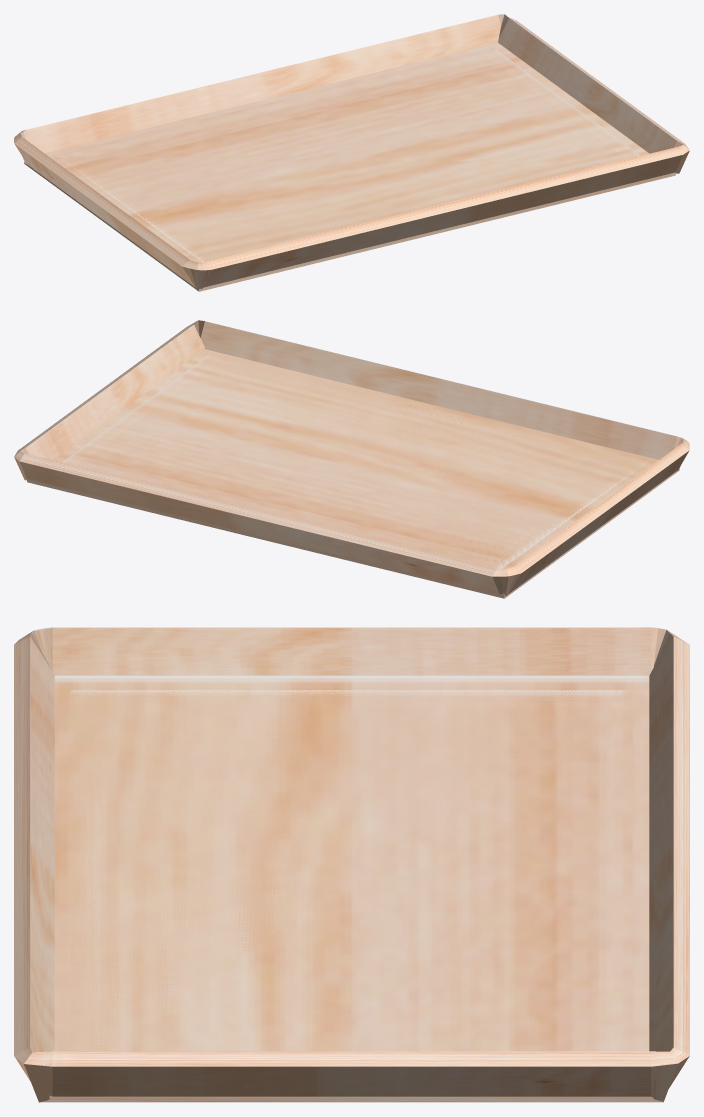
The model's file is plate.fbx.
The picture shows the model from 3 angles, top to bottom: view 1: azimuth 30°, elevation 25°; view 2: azimuth 150°, elevation 25°; view 3: azimuth 270°, elevation 25°; orthographic projection. The views are drawn at different scales.
Visible parts, largest first — view 1: Cube.002; view 2: Cube.002; view 3: Cube.002.
Boxes of the visible parts, x1,y1,x2,y2 form: Cube.002: (14, 14, 689, 291); Cube.002: (14, 320, 689, 598); Cube.002: (14, 627, 689, 1102).
Size of the model in its own units: 332 by 19.5 by 217.
Materials: 1 (1 with a texture image).
